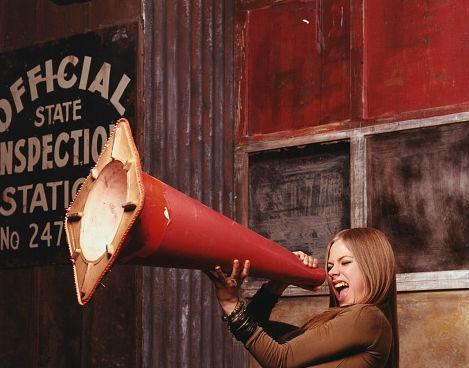Cone: (61, 118, 325, 311)
